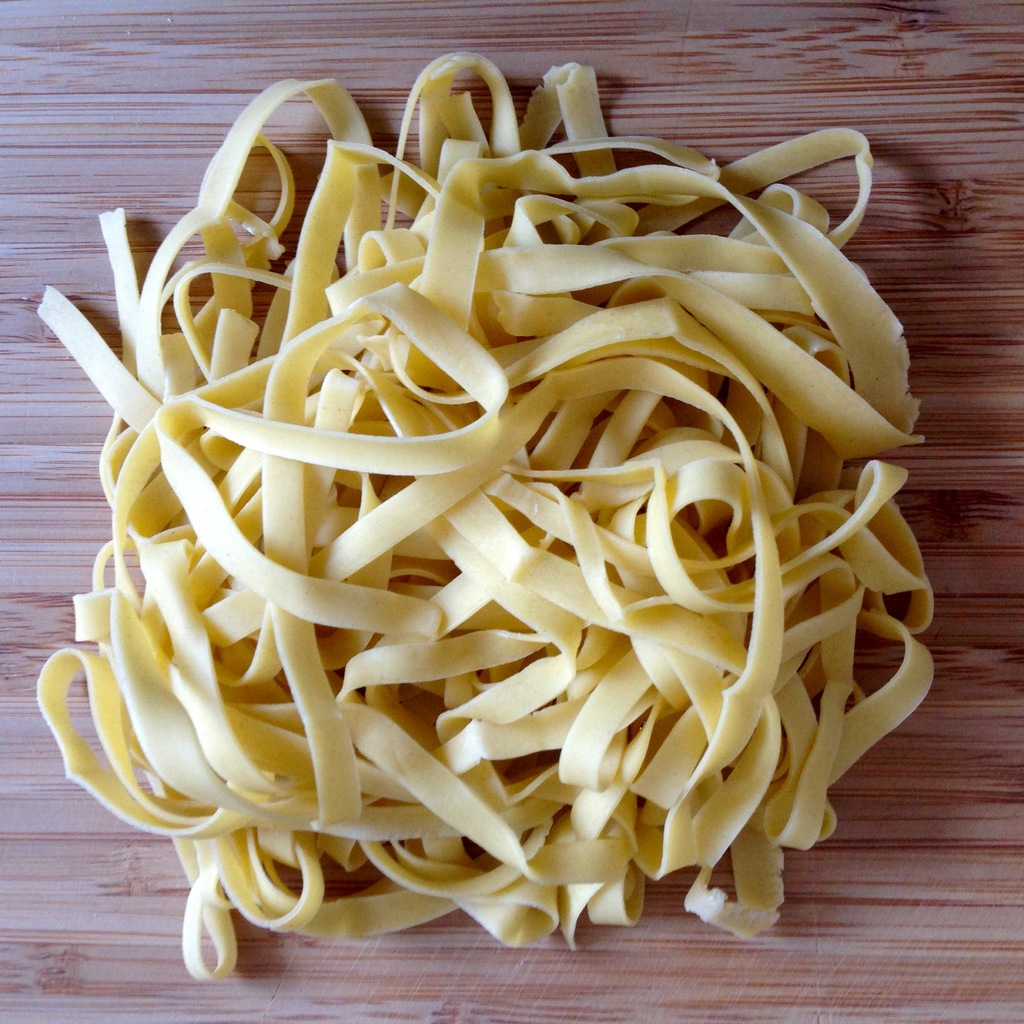pasta: (31, 43, 1024, 1012)
